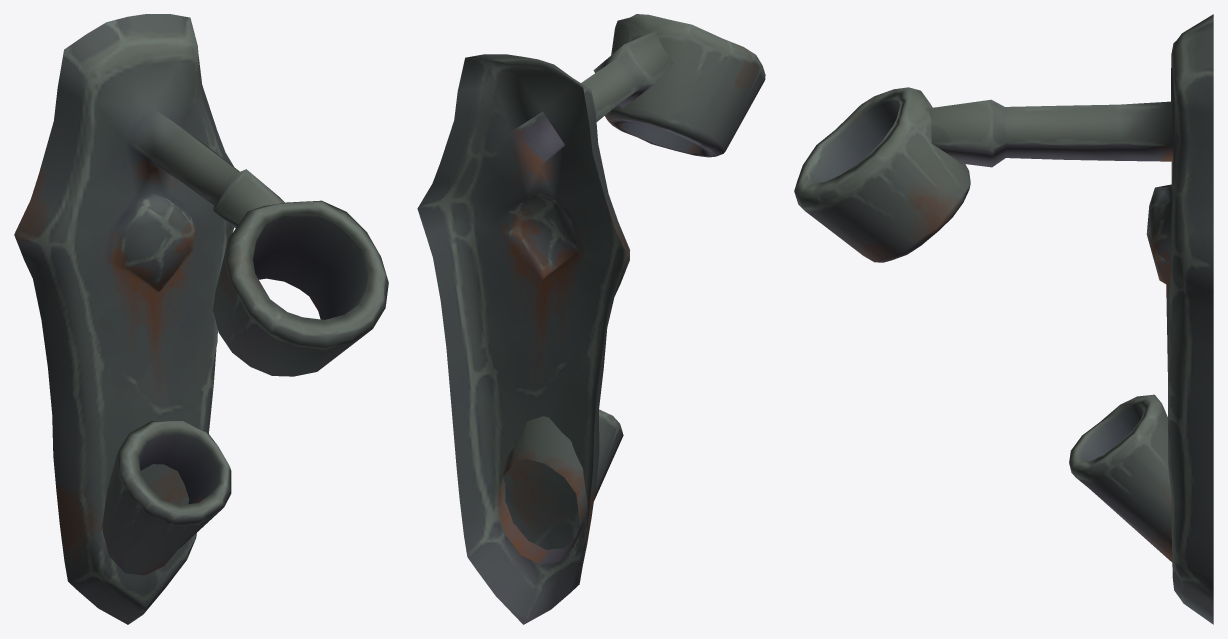
Rendered from SM_FW01_Torch_Holder_01.fbx.
The picture shows the model from 3 angles, left to right: view 1: azimuth 30°, elevation 25°; view 2: azimuth 150°, elevation 25°; view 3: azimuth 270°, elevation 25°; orthographic projection. The views are drawn at different scales.
Visible parts, largest first — view 1: SM_FW01_Torch_Holder_01_LOD0; view 2: SM_FW01_Torch_Holder_01_LOD0; view 3: SM_FW01_Torch_Holder_01_LOD0.
Part boxes in pixels (x1,y1,x2,y2): SM_FW01_Torch_Holder_01_LOD0: (14, 14, 388, 624); SM_FW01_Torch_Holder_01_LOD0: (417, 14, 765, 624); SM_FW01_Torch_Holder_01_LOD0: (794, 14, 1213, 624).
Size of what is drawn, in the model's own units: 0.2424 by 0.6195 by 0.3944.
